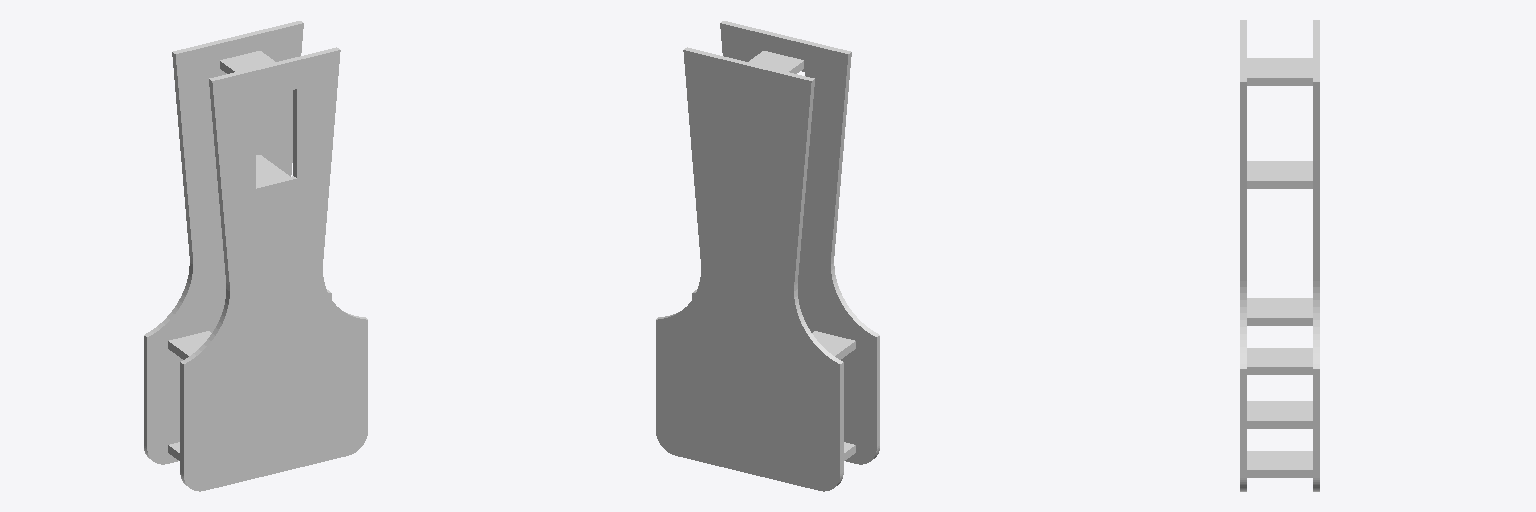
URDF robot description (Lilly_Humanoid):
<?xml version="1.0" encoding="utf-8"?>
<robot name="Lilly_Humanoid">
    <link name="pelvis">
        <inertial>
            <origin xyz="" rpy="0 0 0"></origin>
            <mass value=""></mass>
            <inertia ixx="" ixy="" ixz="" iyy="" iyz="" izz=""></inertia>
        </inertial>
        <visual>
            <origin xyz="0 0 0" rpy="0 0 0"></origin>
            <geometry>
                <mesh filename="package://meshes/pelvis.stl"></mesh>
            </geometry>
            <material name="">
                <color rgba="0.9 0.9 0.9 1.0"></color>
            </material>
        </visual>
        <mass></mass>
    </link>
<!--    <link name="r_hip">-->
<!--        <inertial>-->
<!--            <origin xyz="" rpy="0 0 0"></origin>-->
<!--            <mass value=""></mass>-->
<!--            <inertia ixx="" ixy="" ixz="" iyy="" iyz="" izz=""></inertia>-->
<!--        </inertial>-->
<!--        <visual>-->
<!--            <origin xyz="0 0 0" rpy="0 0 0"></origin>-->
<!--            <geometry>-->
<!--                <mesh filename="#pravyBok"></mesh>-->
<!--            </geometry>-->
<!--            <material name="">-->
<!--                <color rgba="0.9 0.9 0.9 1.0"></color>-->
<!--            </material>-->
<!--        </visual>-->
<!--        <mass></mass>-->
<!--    </link>-->
<!--    <link name="r_hip_motor">-->
<!--        <inertial>-->
<!--            <origin xyz="" rpy="0 0 0"></origin>-->
<!--            <mass value=""></mass>-->
<!--            <inertia ixx="" ixy="" ixz="" iyy="" iyz="" izz=""></inertia>-->
<!--        </inertial>-->
<!--        <visual>-->
<!--            <origin xyz="0 0 0" rpy="0 0 0"></origin>-->
<!--            <geometry>-->
<!--                <mesh filename="#pravyMotor"></mesh>-->
<!--            </geometry>-->
<!--            <material name="">-->
<!--                <color rgba="0.9 0.9 0.9 1.0"></color>-->
<!--            </material>-->
<!--        </visual>-->
<!--        <mass></mass>-->
<!--    </link>-->
<!--    <link name="r_thigh">-->
<!--        <inertial>-->
<!--            <origin xyz="" rpy="0 0 0"></origin>-->
<!--            <mass value=""></mass>-->
<!--            <inertia ixx="" ixy="" ixz="" iyy="" iyz="" izz=""></inertia>-->
<!--        </inertial>-->
<!--        <visual>-->
<!--            <origin xyz="0 0 0" rpy="0 0 0"></origin>-->
<!--            <geometry>-->
<!--                <mesh filename="#hornaCastPravejNohy"></mesh>-->
<!--            </geometry>-->
<!--            <material name="">-->
<!--                <color rgba="0.9 0.9 0.9 1.0"></color>-->
<!--            </material>-->
<!--        </visual>-->
<!--        <mass></mass>-->
<!--    </link>-->
<!--    <link name="r_shin">-->
<!--        <inertial>-->
<!--            <origin xyz="" rpy="0 0 0"></origin>-->
<!--            <mass value=""></mass>-->
<!--            <inertia ixx="" ixy="" ixz="" iyy="" iyz="" izz=""></inertia>-->
<!--        </inertial>-->
<!--        <visual>-->
<!--            <origin xyz="0 0 0" rpy="0 0 0"></origin>-->
<!--            <geometry>-->
<!--                <mesh filename="dolnaCastPravejNohy"></mesh>-->
<!--            </geometry>-->
<!--            <material name="">-->
<!--                <color rgba="0.9 0.9 0.9 1.0"></color>-->
<!--            </material>-->
<!--        </visual>-->
<!--        <mass></mass>-->
<!--    </link>-->
<!--    <link name="r_foot">-->
<!--        <inertial>-->
<!--            <origin xyz="" rpy="0 0 0"></origin>-->
<!--            <mass value=""></mass>-->
<!--            <inertia ixx="" ixy="" ixz="" iyy="" iyz="" izz=""></inertia>-->
<!--        </inertial>-->
<!--        <visual>-->
<!--            <origin xyz="0 0 0" rpy="0 0 0"></origin>-->
<!--            <geometry>-->
<!--                <mesh filename="#priehlavokPravejNohy"></mesh>-->
<!--            </geometry>-->
<!--            <material name="">-->
<!--                <color rgba="0.9 0.9 0.9 1.0"></color>-->
<!--            </material>-->
<!--        </visual>-->
<!--        <mass></mass>-->
<!--    </link>-->
<!--    <link name="l_hip">-->
<!--        <inertial>-->
<!--            <origin xyz="" rpy="0 0 0"></origin>-->
<!--            <mass value=""></mass>-->
<!--            <inertia ixx="" ixy="" ixz="" iyy="" iyz="" izz=""></inertia>-->
<!--        </inertial>-->
<!--        <visual>-->
<!--            <origin xyz="0 0 0" rpy="0 0 0"></origin>-->
<!--            <geometry>-->
<!--                <mesh filename="#lavyBok"></mesh>-->
<!--            </geometry>-->
<!--            <material name="">-->
<!--                <color rgba="0.9 0.9 0.9 1.0"></color>-->
<!--            </material>-->
<!--        </visual>-->
<!--        <mass></mass>-->
<!--    </link>-->
<!--    <link name="l_hip_motor">-->
<!--        <inertial>-->
<!--            <origin xyz="" rpy="0 0 0"></origin>-->
<!--            <mass value=""></mass>-->
<!--            <inertia ixx="" ixy="" ixz="" iyy="" iyz="" izz=""></inertia>-->
<!--        </inertial>-->
<!--        <visual>-->
<!--            <origin xyz="0 0 0" rpy="0 0 0"></origin>-->
<!--            <geometry>-->
<!--                <mesh filename="#lavyMotor"></mesh>-->
<!--            </geometry>-->
<!--            <material name="">-->
<!--                <color rgba="0.9 0.9 0.9 1.0"></color>-->
<!--            </material>-->
<!--        </visual>-->
<!--        <mass></mass>-->
<!--    </link>-->
<!--    <link name="l_thigh">-->
<!--        <inertial>-->
<!--            <origin xyz="" rpy="0 0 0"></origin>-->
<!--            <mass value=""></mass>-->
<!--            <inertia ixx="" ixy="" ixz="" iyy="" iyz="" izz=""></inertia>-->
<!--        </inertial>-->
<!--        <visual>-->
<!--            <origin xyz="0 0 0" rpy="0 0 0"></origin>-->
<!--            <geometry>-->
<!--                <mesh filename="#hornaCastLavejNohy"></mesh>-->
<!--            </geometry>-->
<!--            <material name="">-->
<!--                <color rgba="0.9 0.9 0.9 1.0"></color>-->
<!--            </material>-->
<!--        </visual>-->
<!--        <mass></mass>-->
<!--    </link>-->
<!--    <link name="l_shin">-->
<!--        <inertial>-->
<!--            <origin xyz="" rpy="0 0 0"></origin>-->
<!--            <mass value=""></mass>-->
<!--            <inertia ixx="" ixy="" ixz="" iyy="" iyz="" izz=""></inertia>-->
<!--        </inertial>-->
<!--        <visual>-->
<!--            <origin xyz="0 0 0" rpy="0 0 0"></origin>-->
<!--            <geometry>-->
<!--                <mesh filename="#dolnaCastLavejNohy"></mesh>-->
<!--            </geometry>-->
<!--            <material name="">-->
<!--                <color rgba="0.9 0.9 0.9 1.0"></color>-->
<!--            </material>-->
<!--        </visual>-->
<!--        <mass></mass>-->
<!--    </link>-->
<!--    <link name="l_foot">-->
<!--        <inertial>-->
<!--            <origin xyz="" rpy="0 0 0"></origin>-->
<!--            <mass value=""></mass>-->
<!--            <inertia ixx="" ixy="" ixz="" iyy="" iyz="" izz=""></inertia>-->
<!--        </inertial>-->
<!--        <visual>-->
<!--            <origin xyz="0 0 0" rpy="0 0 0"></origin>-->
<!--            <geometry>-->
<!--                <mesh filename="#priehlavokLavejNohy"></mesh>-->
<!--            </geometry>-->
<!--            <material name="">-->
<!--                <color rgba="0.9 0.9 0.9 1.0"></color>-->
<!--            </material>-->
<!--        </visual>-->
<!--        <mass></mass>-->
<!--    </link>-->
<!--    <link name="abs_motors">-->
<!--        <inertial>-->
<!--            <origin xyz="" rpy="0 0 0"></origin>-->
<!--            <mass value=""></mass>-->
<!--            <inertia ixx="" ixy="" ixz="" iyy="" iyz="" izz=""></inertia>-->
<!--        </inertial>-->
<!--        <visual>-->
<!--            <origin xyz="0 0 0" rpy="0 0 0"></origin>-->
<!--            <geometry>-->
<!--                <mesh filename="#motorHrudnik"></mesh>-->
<!--            </geometry>-->
<!--            <material name="">-->
<!--                <color rgba="0.9 0.9 0.9 1.0"></color>-->
<!--            </material>-->
<!--        </visual>-->
<!--        <mass></mass>-->
<!--    </link>-->
</robot>

--- What the picture shows (computed from the rendered views, not written in the file) ---
3 views of the same robot in one strip: view 1: azimuth 30°, elevation 25°; view 2: azimuth 150°, elevation 25°; view 3: azimuth 270°, elevation 25° (orthographic).
Robot: Lilly_Humanoid — 1 links, 0 joints (none); root link pelvis; default pose: every joint at zero.
Links seen in each view (by area): view 1: pelvis; view 2: pelvis; view 3: pelvis.
Link boxes in pixels (x1,y1,x2,y2): pelvis: (144,21,367,491); pelvis: (656,21,879,491); pelvis: (1240,20,1319,491).
Bounding box of the posed robot: 0.09 × 0.034 × 0.19 m (x, y, z).
Meshes: 1 distinct files referenced, 1 mesh visuals loaded (1 ASCII STL).
